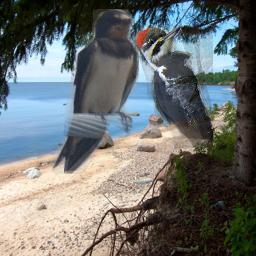Swallow: (52, 9, 139, 174)
Woodpecker: (132, 25, 213, 148)
